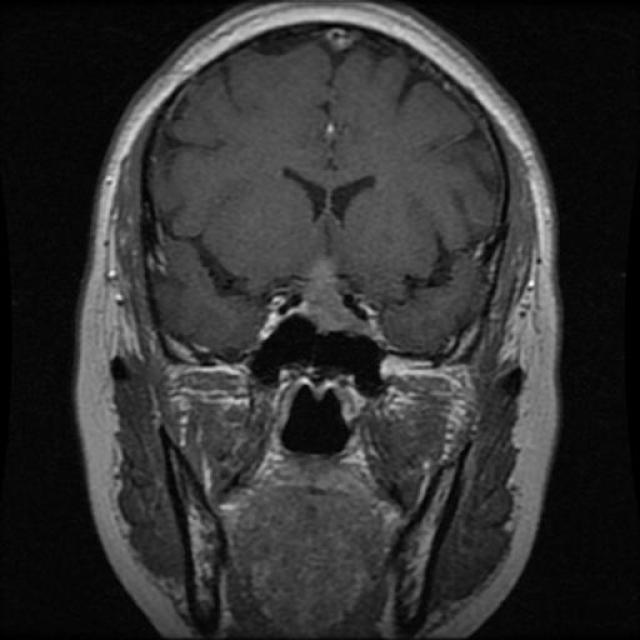pituitary: (259, 214, 382, 314)
